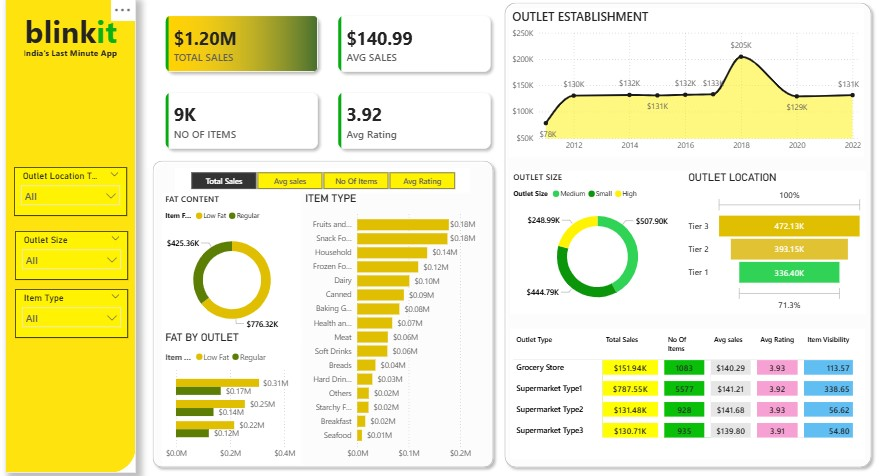

What the dashboard file says about the page in this screenshot:
{"tool":"powerbi","page":{"name":"Page 1","canvas":[1400,800],"ordinal":0},"visuals":[{"type":"shape","box":[11,25.2,206.3,749.6],"z":0},{"type":"textbox","box":[25.2,40.9,179.5,74],"z":1000},{"type":"textbox","box":[12.6,99.2,203.1,29.9],"z":2000},{"type":"cardVisual","fields":{"Data":["BlinkIT Grocery Data.Total Sales","BlinkIT Grocery Data.Avg sales","BlinkIT Grocery Data.No Of Items","BlinkIT Grocery Data.Avg Rating"]},"box":[234.6,25.2,570.1,269.3],"z":3000},{"type":"shape","box":[234.6,274,554.3,500.8],"z":4000},{"type":"donutChart","title":"FAT CONTENT","fields":{"Y":["BlinkIT Grocery Data.Total Sales"],"Category":["BlinkIT Grocery Data.Item Fat Content"]},"box":[258.3,333.9,220.5,229.9],"z":5000},{"type":"slicer","fields":{"Values":["metrics.metrics"]},"box":[278.7,294.5,464.6,39.4],"z":6000},{"type":"clusteredBarChart","title":"FAT BY OUTLET","fields":{"Y":["BlinkIT Grocery Data.Total Sales"],"Category":["BlinkIT Grocery Data.Outlet Location Type"],"Series":["BlinkIT Grocery Data.Item Fat Content"]},"box":[258.3,551.2,220.5,211],"z":7000},{"type":"barChart","title":"ITEM TYPE","fields":{"Y":["BlinkIT Grocery Data.Total Sales"],"Category":["BlinkIT Grocery Data.Item Type"]},"box":[478.7,332.3,294.5,429.9],"z":8000},{"type":"shape","box":[789,25.2,595.3,749.6],"z":9000},{"type":"lineChart","title":"OUTLET ESTABLISHMENT","fields":{"Y":["BlinkIT Grocery Data.Total Sales"],"Category":["BlinkIT Grocery Data.Outlet Establishment Year"]},"box":[804.7,42.5,559.1,234.6],"z":10000},{"type":"donutChart","title":"OUTLET SIZE","fields":{"Y":["BlinkIT Grocery Data.Total Sales"],"Category":["BlinkIT Grocery Data.Outlet Size"]},"box":[806.3,299.2,275.6,225.2],"z":11000},{"type":"funnel","title":"OUTLET LOCATION","fields":{"Y":["Sum(BlinkIT Grocery Data.Sales)"],"Category":["BlinkIT Grocery Data.Outlet Location Type"]},"box":[1081.9,299.2,285,225.2],"z":12000},{"type":"pivotTable","fields":{"Rows":["BlinkIT Grocery Data.Outlet Type"],"Values":["BlinkIT Grocery Data.Total Sales","BlinkIT Grocery Data.No Of Items","BlinkIT Grocery Data.Avg sales","BlinkIT Grocery Data.Avg Rating","Sum(BlinkIT Grocery Data.Item Visibility)"]},"box":[806.3,548,559.1,204.7],"z":13000},{"type":"slicer","fields":{"Values":["BlinkIT Grocery Data.Outlet Location Type"]},"box":[25.2,292.9,178,77.2],"z":13001},{"type":"slicer","fields":{"Values":["BlinkIT Grocery Data.Outlet Size"]},"box":[26.8,393.7,178,77.2],"z":13002},{"type":"slicer","fields":{"Values":["BlinkIT Grocery Data.Item Type"]},"box":[26.8,485,178,77.2],"z":13003}]}

Visuals, with their boxes on the page's 1400x800 design canvas (x1, y1, x2, y2). These are canvas units, not pixel positions in the 879x476 screenshot, which may show the page scaled, cropped or inside an application window:
shape: rect(11, 25, 217, 775)
textbox: rect(25, 41, 205, 115)
textbox: rect(13, 99, 216, 129)
cardVisual - BlinkIT Grocery Data.Total Sales x BlinkIT Grocery Data.Avg sales: rect(235, 25, 805, 294)
shape: rect(235, 274, 789, 775)
"FAT CONTENT" donutChart: rect(258, 334, 479, 564)
slicer - metrics.metrics: rect(279, 294, 743, 334)
"FAT BY OUTLET" clusteredBarChart: rect(258, 551, 479, 762)
"ITEM TYPE" barChart: rect(479, 332, 773, 762)
shape: rect(789, 25, 1384, 775)
"OUTLET ESTABLISHMENT" lineChart: rect(805, 42, 1364, 277)
"OUTLET SIZE" donutChart: rect(806, 299, 1082, 524)
"OUTLET LOCATION" funnel: rect(1082, 299, 1367, 524)
pivotTable - BlinkIT Grocery Data.Outlet Type x BlinkIT Grocery Data.Total Sales: rect(806, 548, 1365, 753)
slicer - BlinkIT Grocery Data.Outlet Location Type: rect(25, 293, 203, 370)
slicer - BlinkIT Grocery Data.Outlet Size: rect(27, 394, 205, 471)
slicer - BlinkIT Grocery Data.Item Type: rect(27, 485, 205, 562)
